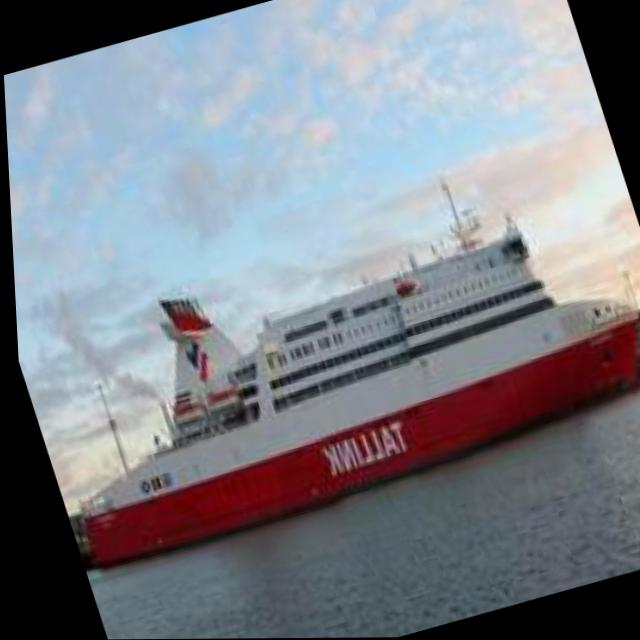ship2: (77, 174, 636, 566)
